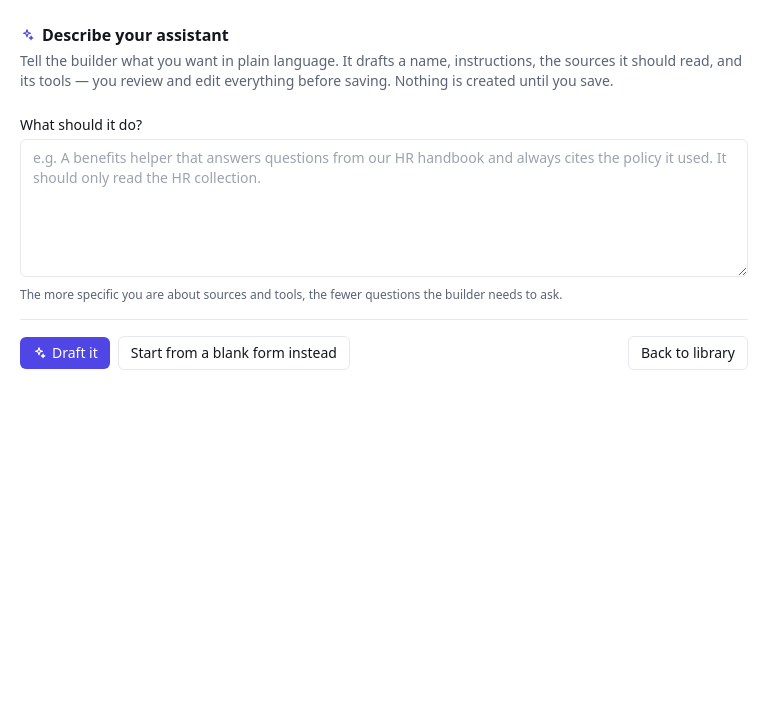
Test: DescribeAssistant — draft → editor (E6-1, #213) › drafts from a description and pre-fills the editor with the config (AC-1)
Type "A benefits helper that answers from the HR handbook." into the text box labelled "What should it do?" at (384,208), box 20,139 -> 748,277
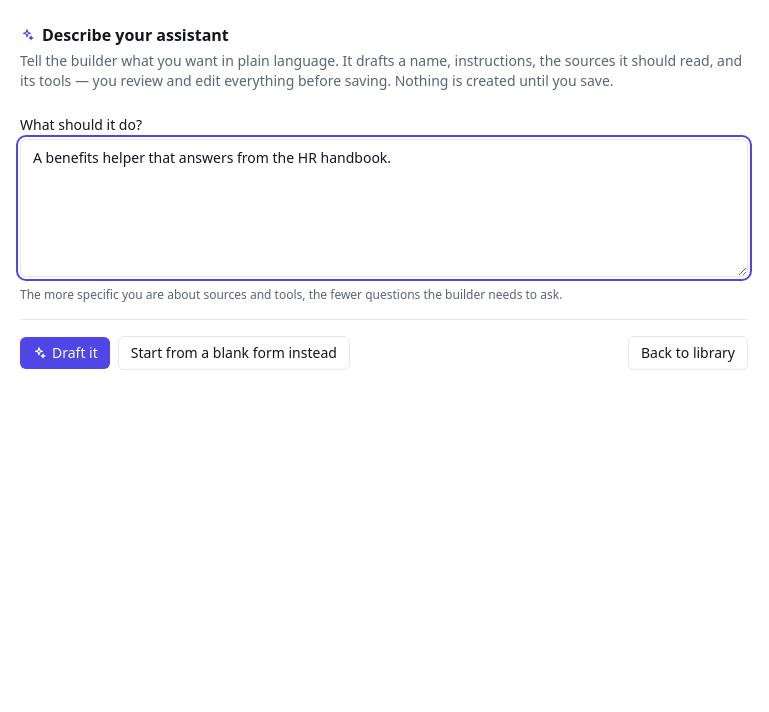
Click the button "Draft it" at (65,353), box 20,337 -> 110,369
(page scrolled)
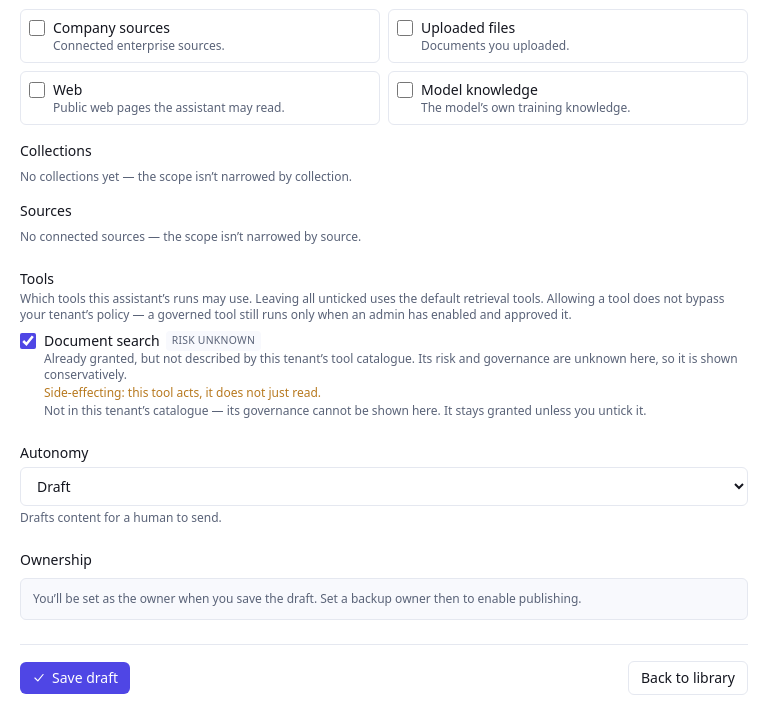
Expected: the button "Save draft" is shown, 20,662 -> 130,694
